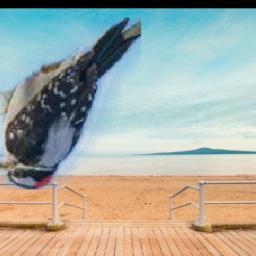Woodpecker: (0, 19, 141, 190)
